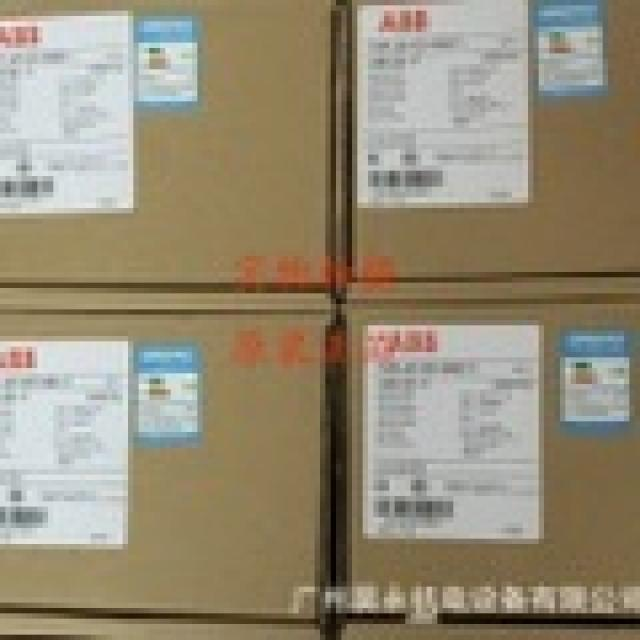box: (0, 288, 343, 635), (336, 277, 635, 635), (0, 0, 351, 287), (349, 0, 635, 283)
